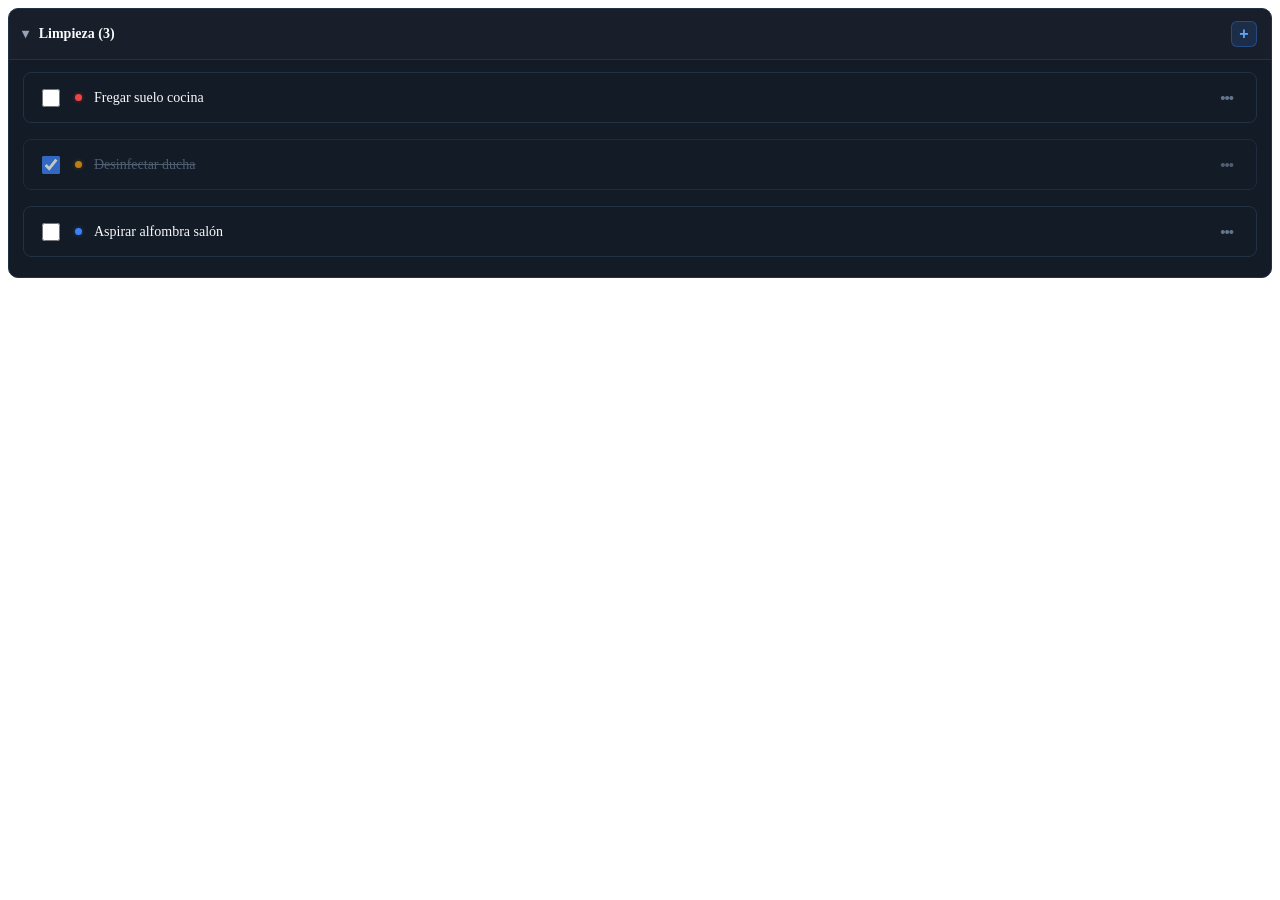
Scenario: CleaningAccordion Component (Homogeneidad con Tareas y Compra) › 6. debe abrir el wizard de creación al pulsar [+] sin colapsar el acordeón
Click the button with test id "cleaning-create-button": coordinates (1244, 34) [1231,21,1257,47]
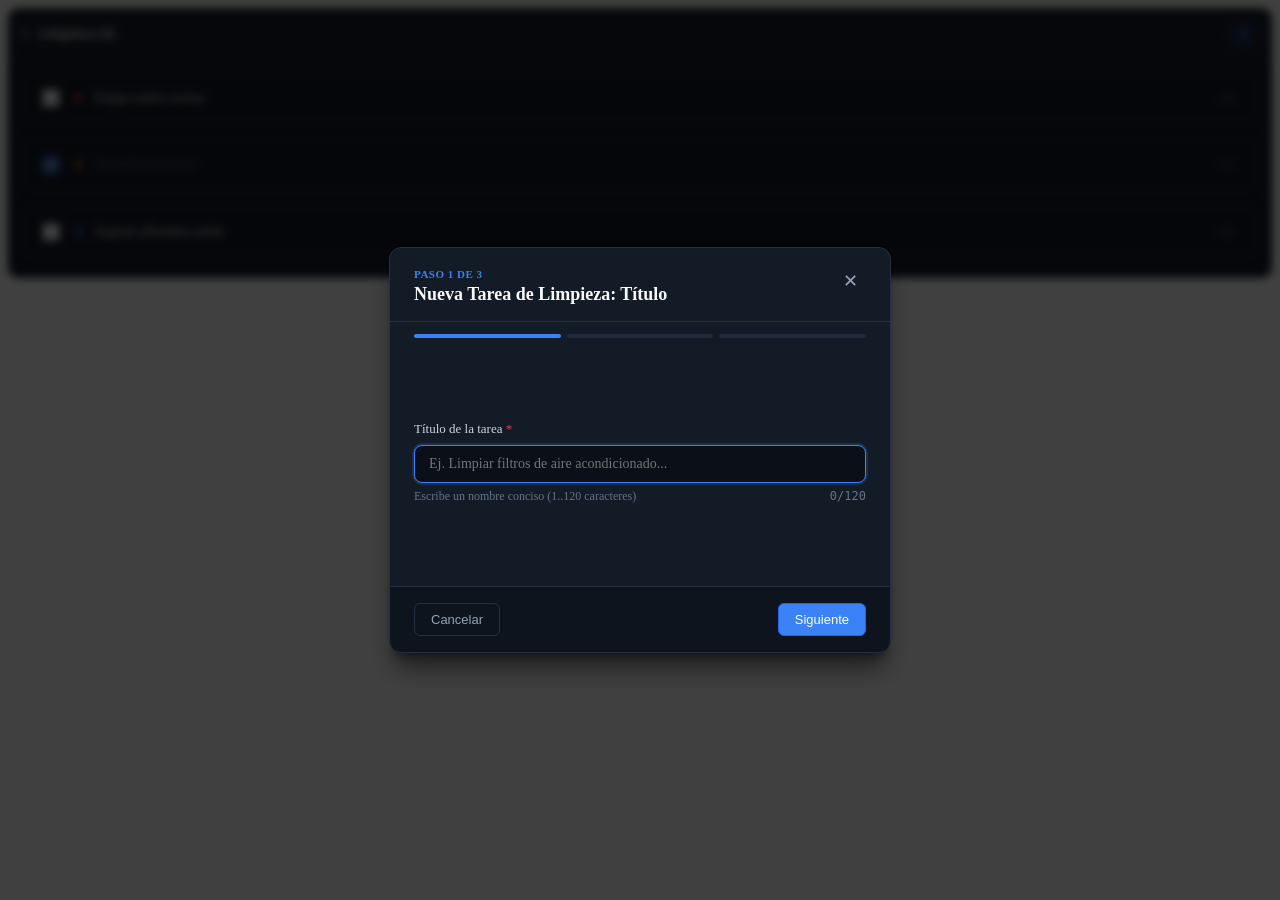
Result: the dialog is shown
Result: the text "Paso 1 de 3" is shown at [414,268,483,280]
